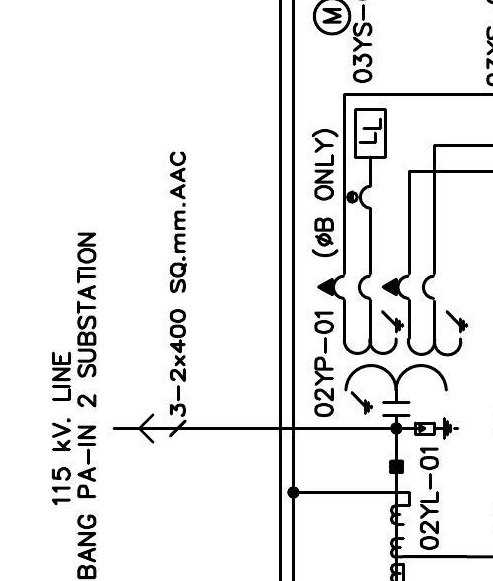115_cvt_1p: (316, 272, 469, 418)
115_la: (414, 417, 460, 441)
LL: (354, 108, 387, 159)
